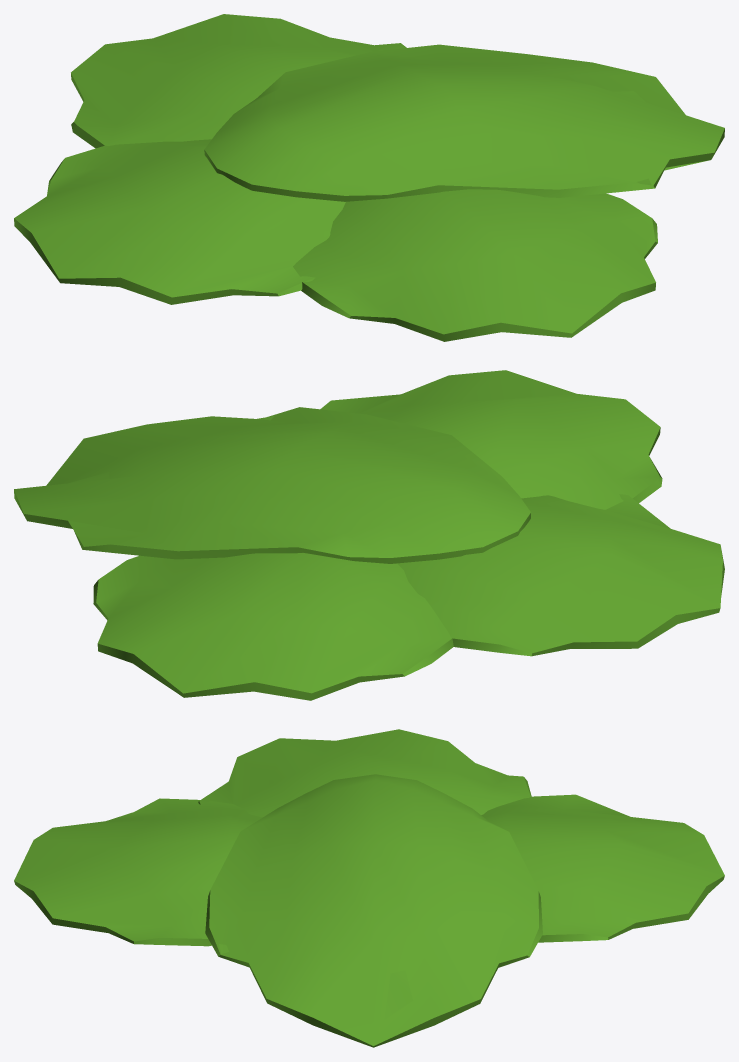
The model's file is M_Food_Lettuce_001.fbx.
3 renders of one model, top to bottom at view 1: azimuth 30°, elevation 25°; view 2: azimuth 150°, elevation 25°; view 3: azimuth 270°, elevation 25°, orthographic. The views are drawn at different scales.
Visible parts, largest first — view 1: Lettuce; view 2: Lettuce; view 3: Lettuce.
Part boxes in pixels (x1,y1,x2,y2): Lettuce: [14, 14, 724, 341]; Lettuce: [14, 370, 724, 700]; Lettuce: [14, 729, 724, 1047].
Size of the model in its own units: 67.81 by 10.77 by 72.47.
